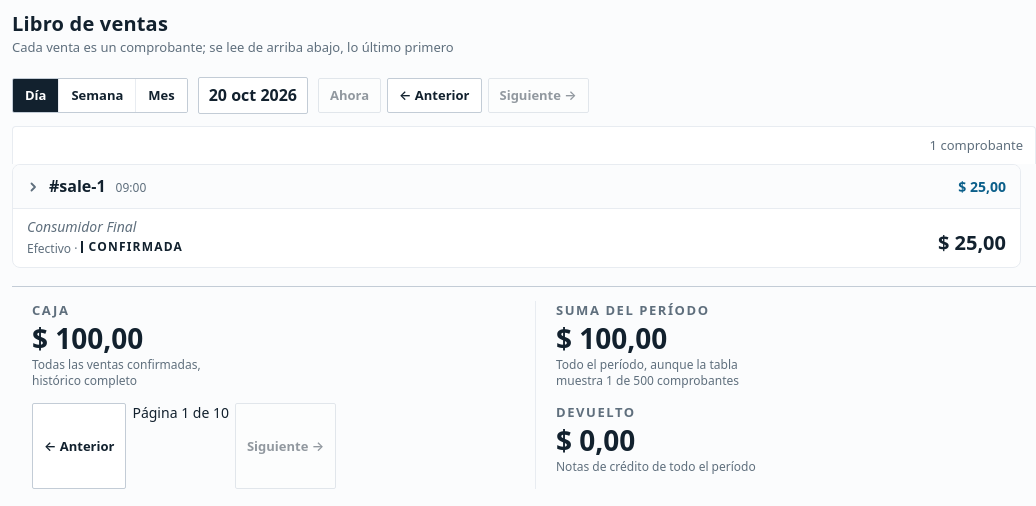
Scenario: a sales page step whose read fails › keeps the pager on the page whose rows loaded
Click the button "← Anterior" next to "Página 1 de 10". click: x=79, y=446
box: [32,404,126,489]
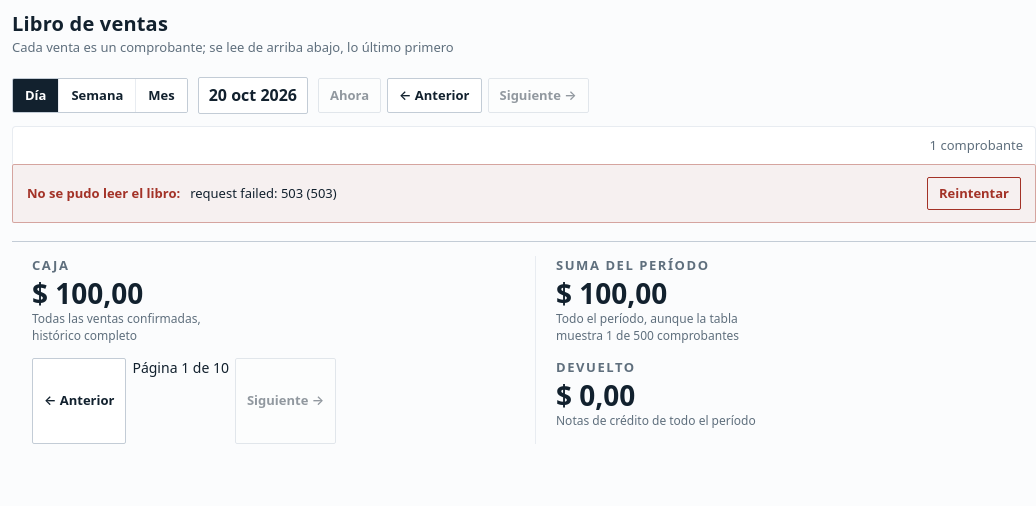
Expected: the text "Página 1 de 10" is shown, [132,358,229,377]
Expected: the message "No se pudo leer el libro: request failed: 503 (503) Reintentar" is shown, [12,164,1035,223]
